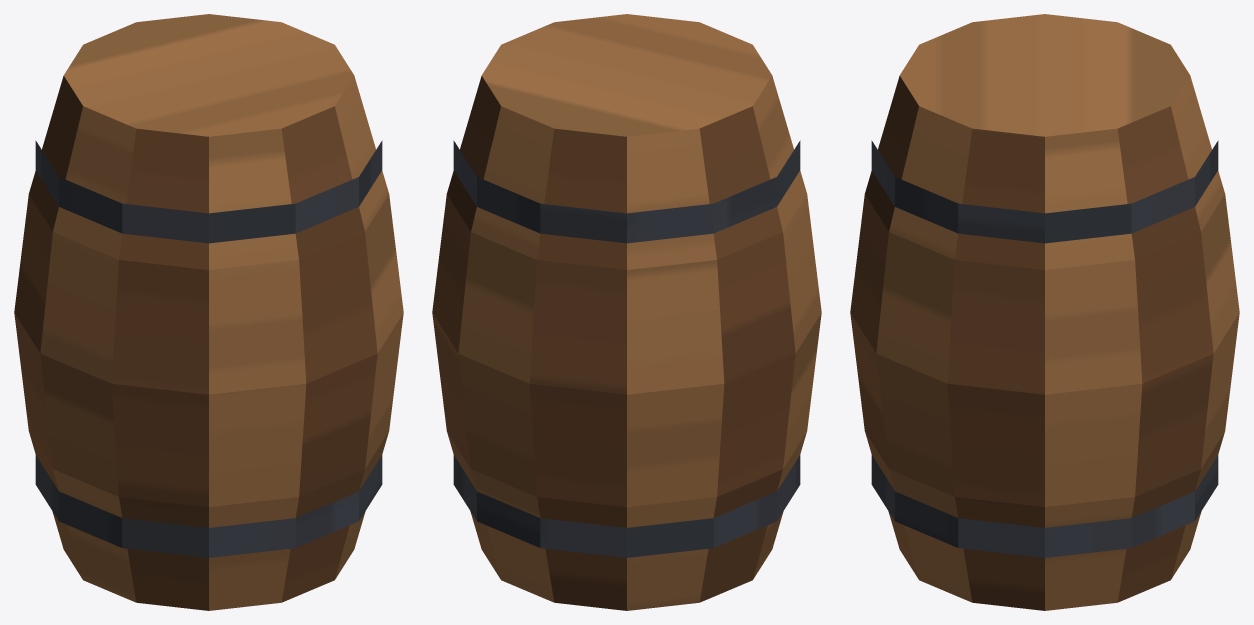
File: SM_Prop_Barrel_HQ.glb
The picture shows the model from 3 angles, left to right: view 1: azimuth 30°, elevation 25°; view 2: azimuth 150°, elevation 25°; view 3: azimuth 270°, elevation 25°; orthographic projection.
Parts seen in each view (by area): view 1: SM_Prop_Barrel_HQ; view 2: SM_Prop_Barrel_HQ; view 3: SM_Prop_Barrel_HQ.
Boxes of the visible parts, bbox=[...] form: SM_Prop_Barrel_HQ: bbox=[14, 14, 403, 610]; SM_Prop_Barrel_HQ: bbox=[432, 14, 821, 610]; SM_Prop_Barrel_HQ: bbox=[850, 14, 1239, 610].
Size of the model in its own units: 0.67 by 0.9 by 0.67.
Materials: 1 (1 with a texture image).
